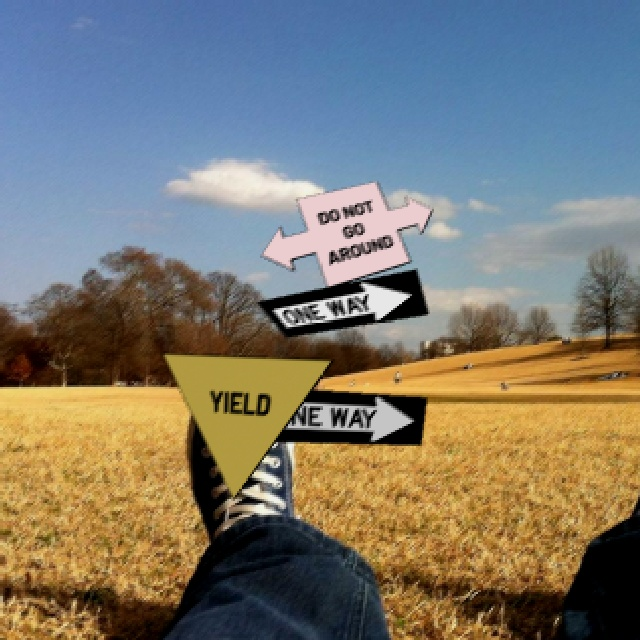DO_NOT_GO_AROUND: (259, 178, 432, 286)
ONE_WAY_ right: (255, 266, 428, 335), (253, 383, 426, 443)
YIELD: (160, 350, 333, 498)
